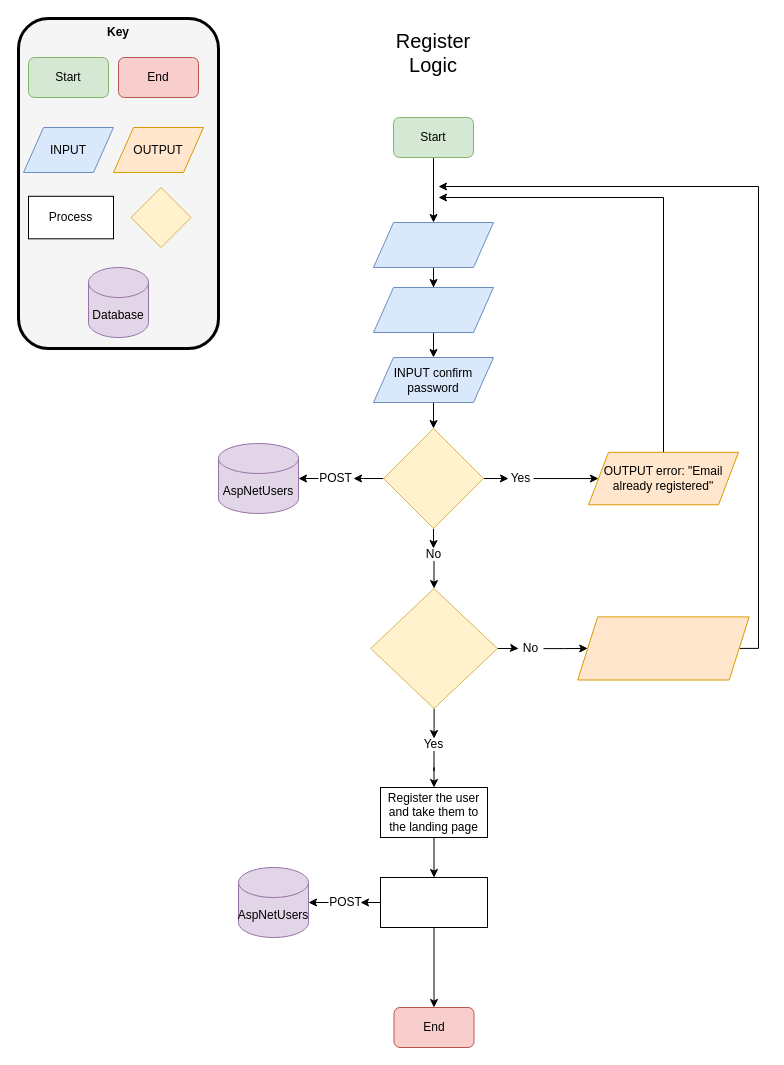
Image size: 784x1065. Some labels were removed from this diagram. Each missing label, with the centre of its shape:
Add the user to the database: (x=434, y=902)
Decision: (x=160, y=217)
Do password and confirm password match?: (x=433, y=648)
Does email already exist?: (x=433, y=478)
INPUT email: (x=433, y=245)
INPUT password: (x=433, y=309)
OUTPUT error: "Passwords do not match": (x=663, y=648)
